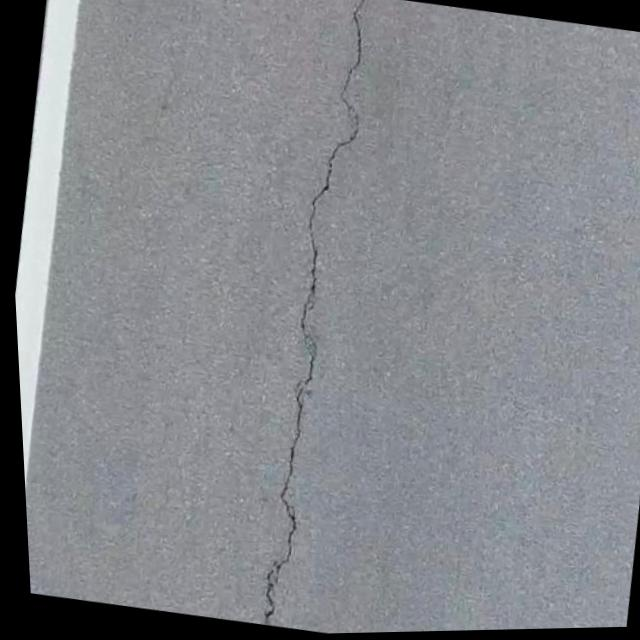Crack: (203, 0, 414, 635)
